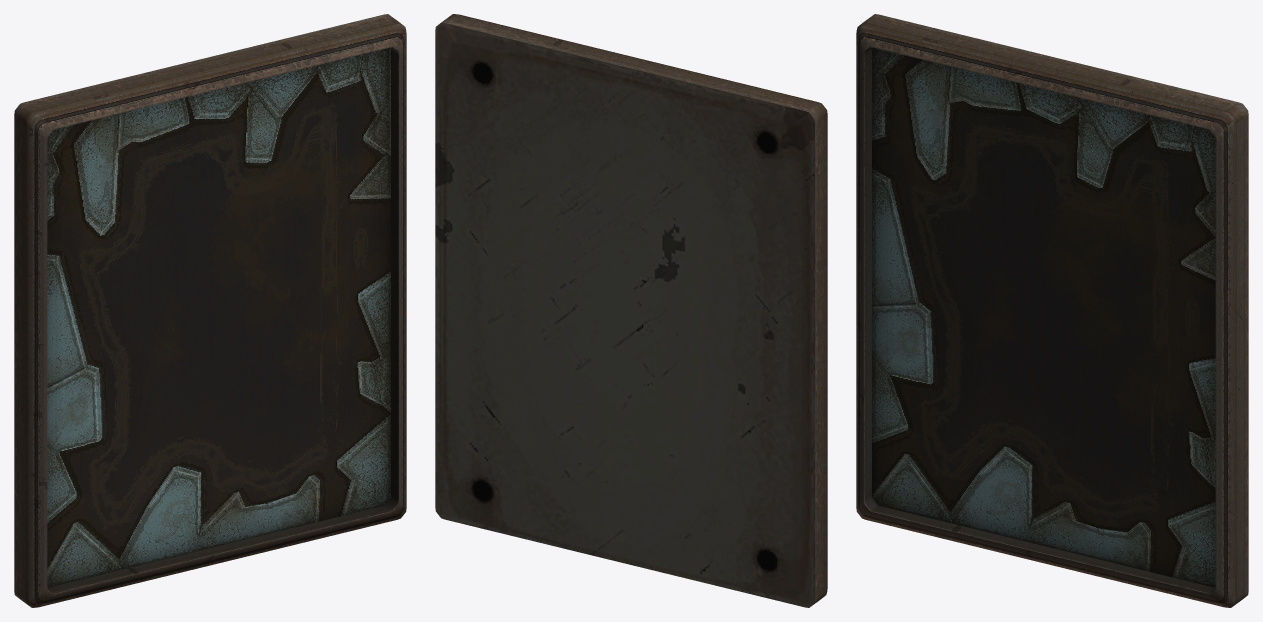
The model's file is mirror_wall_broken.DAE.
3 views of the same model, side by side, from view 1: azimuth 30°, elevation 25°; view 2: azimuth 150°, elevation 25°; view 3: azimuth 330°, elevation 25° (orthographic).
Parts seen in each view (by area): view 1: mesh_mirror; view 2: mesh_mirror; view 3: mesh_mirror.
Boxes of the visible parts, box(x1,y1,x2,y2) form: mesh_mirror: box(14, 14, 406, 607); mesh_mirror: box(435, 14, 827, 607); mesh_mirror: box(856, 14, 1248, 607).
Size of the model in its own units: 0.8128 by 1.02 by 0.0705.
